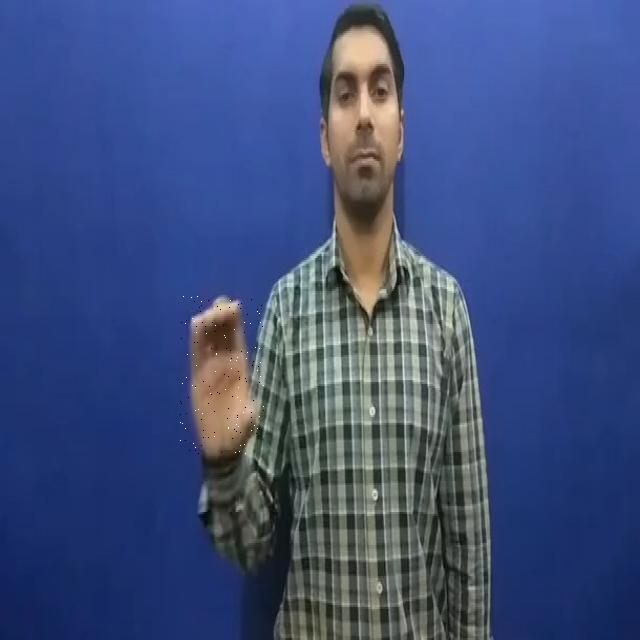pepper: (180, 295, 264, 454)
